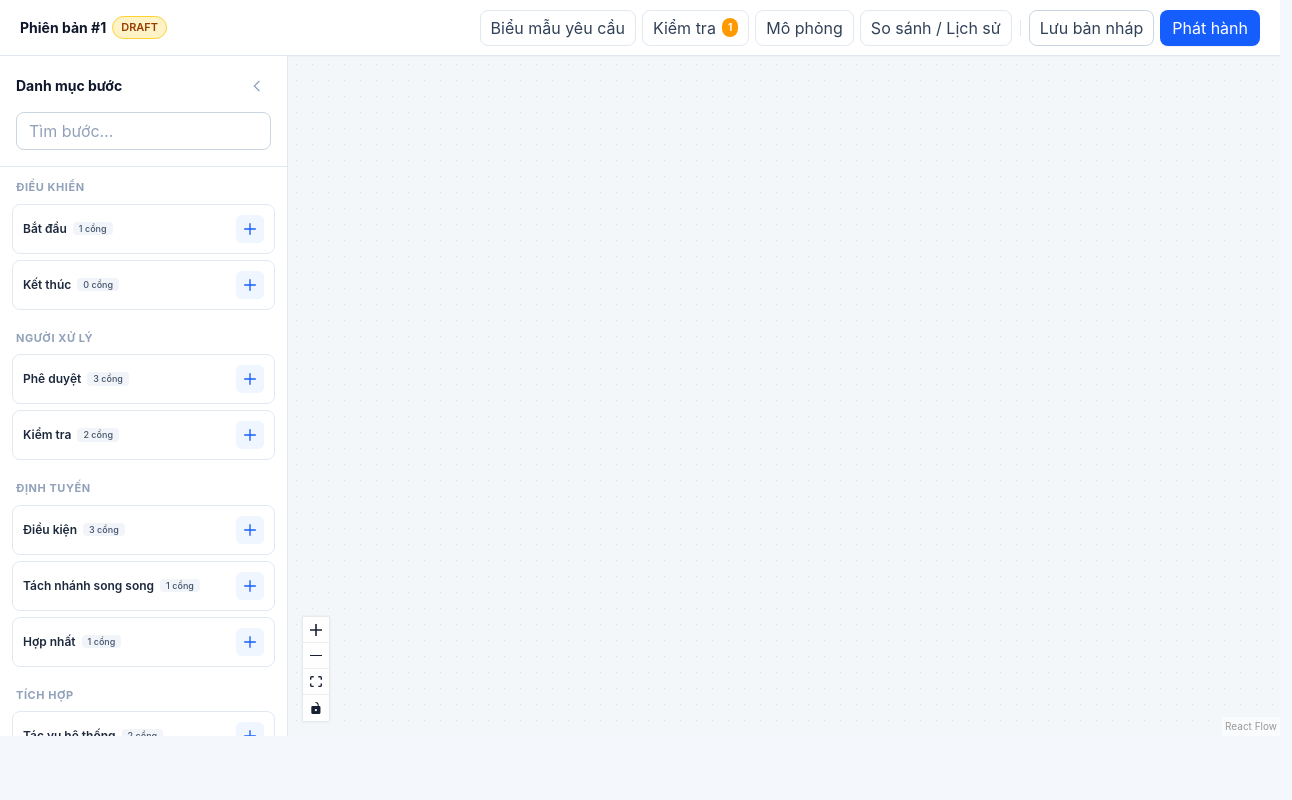
WorkflowBuilder Component › notifies the host after a successful draft save
Click the button with test id "toolbar-save-draft-button" at (1091, 28), box [1029,10,1154,46]
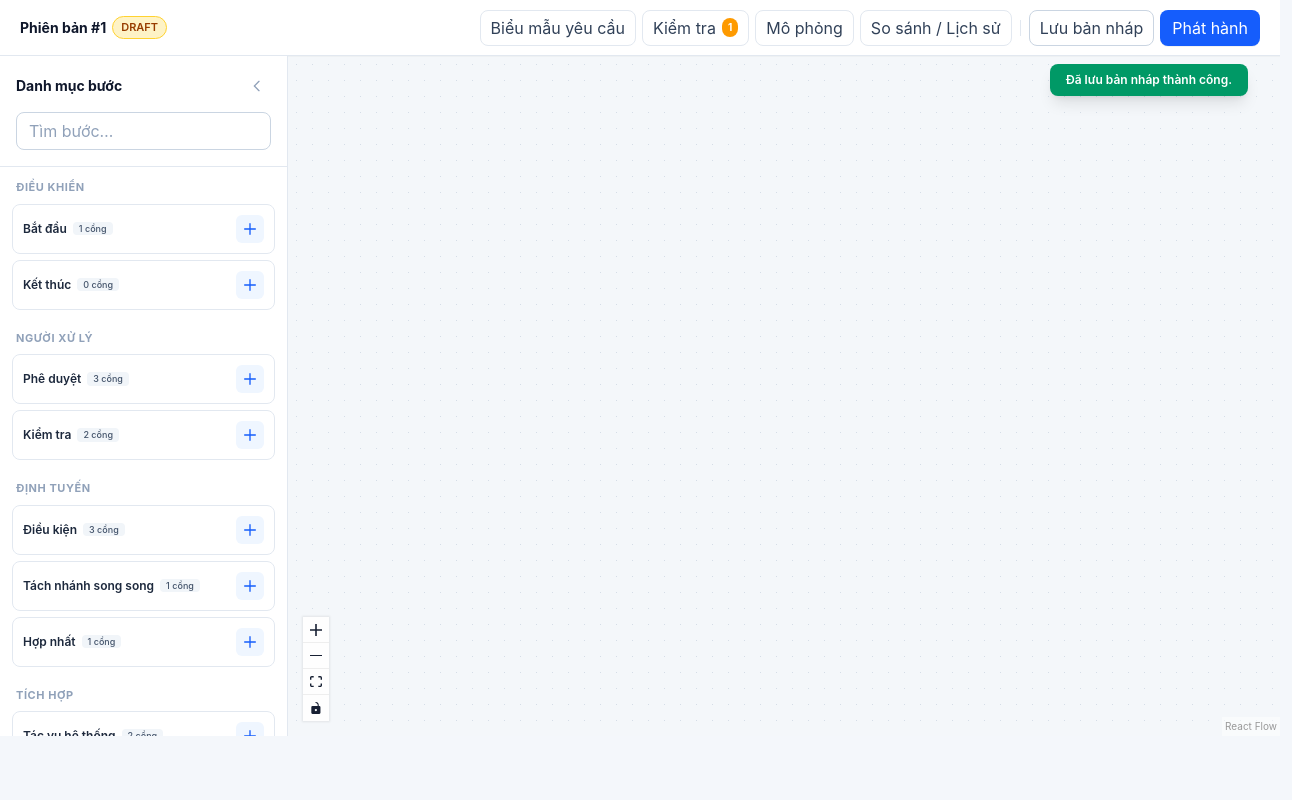
Check: the text with test id "save-draft-toast" reads "Đã lưu bản nháp thành công.", box [1066,72,1232,87]
